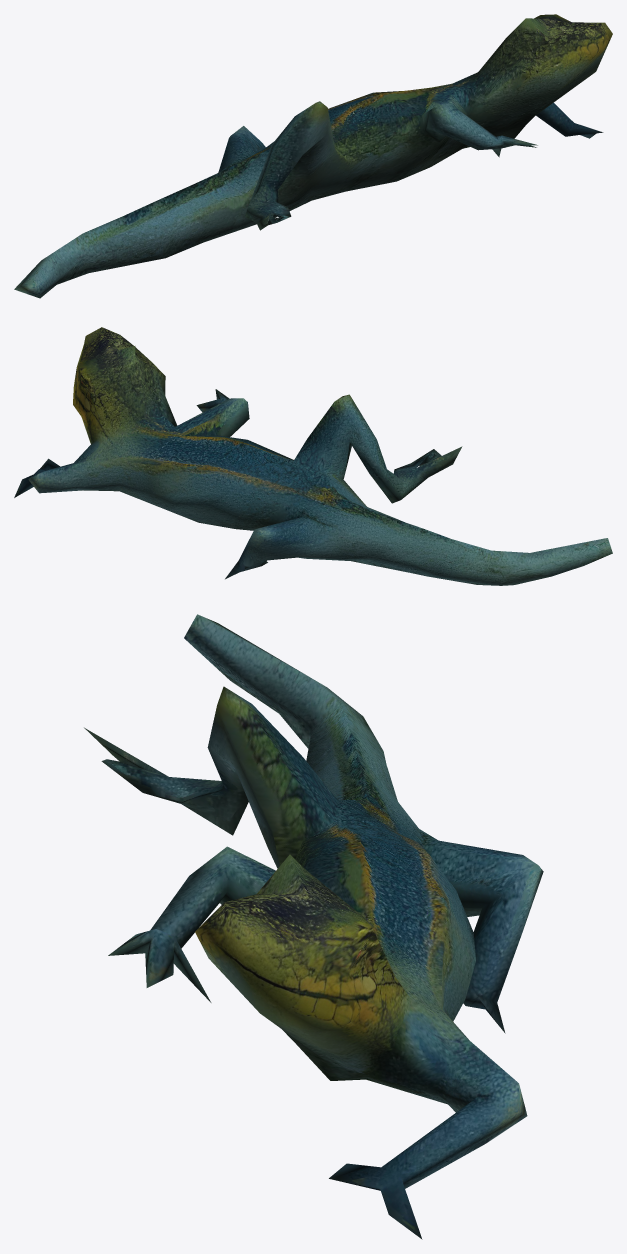
File: lagar1.glb
3 renders of one model, top to bottom at view 1: azimuth 30°, elevation 25°; view 2: azimuth 150°, elevation 25°; view 3: azimuth 270°, elevation 25°, orthographic. The views are drawn at different scales.
Visible parts, largest first — view 1: tripo_node_66785118-3bcd-49bf-a6ae-e1a7bffea11a; view 2: tripo_node_66785118-3bcd-49bf-a6ae-e1a7bffea11a; view 3: tripo_node_66785118-3bcd-49bf-a6ae-e1a7bffea11a.
Part boxes in pixels (left/top/right/bottom): tripo_node_66785118-3bcd-49bf-a6ae-e1a7bffea11a: left=14, top=14, right=612, bottom=298; tripo_node_66785118-3bcd-49bf-a6ae-e1a7bffea11a: left=14, top=327, right=612, bottom=585; tripo_node_66785118-3bcd-49bf-a6ae-e1a7bffea11a: left=84, top=614, right=543, bottom=1239.
Bounding box in the file's own units: 0.9951 × 0.2769 × 0.3618.
1 material, 1 textured.
